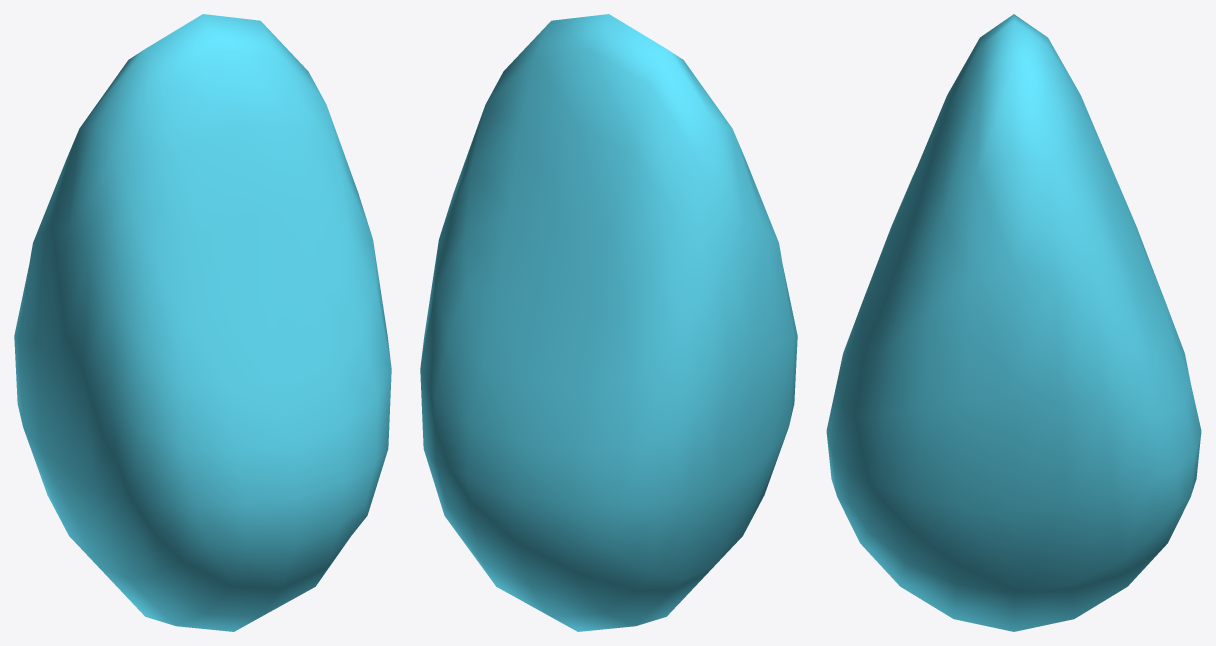
Rendered from Raindrop.fbx.
3 views of the same model, side by side, from view 1: azimuth 30°, elevation 25°; view 2: azimuth 150°, elevation 25°; view 3: azimuth 270°, elevation 25° (orthographic).
Parts seen in each view (by area): view 1: Raindrop; view 2: Raindrop; view 3: Raindrop.
Part boxes in pixels (x1=…): Raindrop: x1=14, y1=14, x2=391, y2=631; Raindrop: x1=420, y1=14, x2=797, y2=631; Raindrop: x1=826, y1=14, x2=1201, y2=631.
Bounding box in the file's own units: 183 × 368 × 207.
